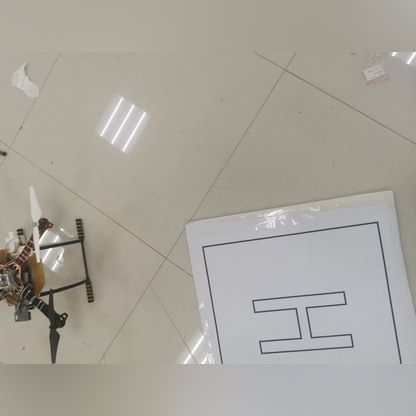H: (228, 264, 371, 371)
